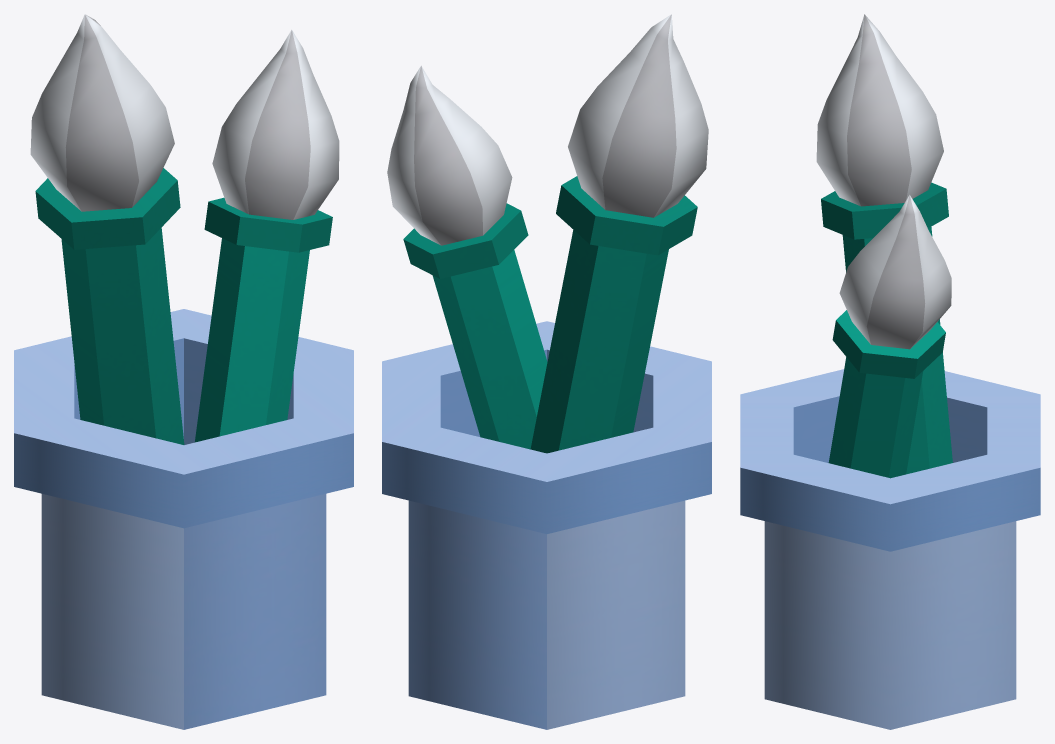
The model's file is SM_BrushBucket.fbx.
3 views of the same model, side by side, from view 1: azimuth 30°, elevation 25°; view 2: azimuth 150°, elevation 25°; view 3: azimuth 270°, elevation 25° (orthographic). The views are drawn at different scales.
Visible parts, largest first — view 1: SM_BrushBucket; view 2: SM_BrushBucket; view 3: SM_BrushBucket.
Boxes of the visible parts, x1=… form: SM_BrushBucket: x1=14, y1=14, x2=353, y2=729; SM_BrushBucket: x1=382, y1=14, x2=711, y2=729; SM_BrushBucket: x1=740, y1=14, x2=1040, y2=729.
Size of the model in its own units: 19.71 by 38.55 by 17.07.
